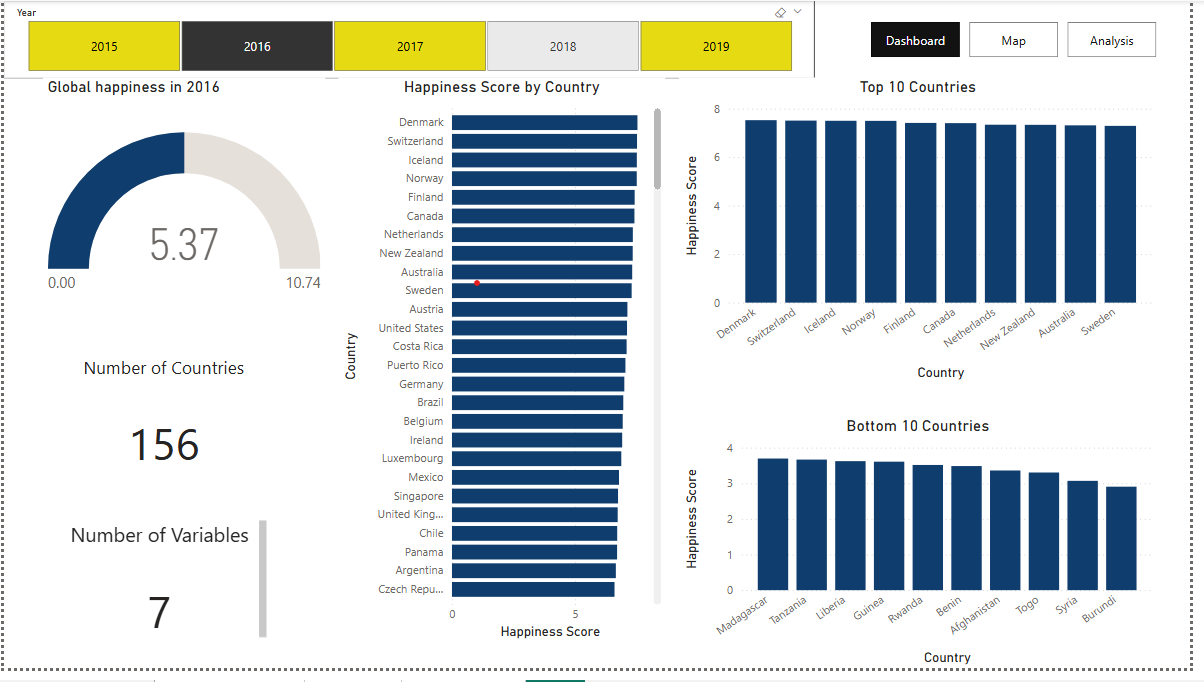

Layout of this report page (visuals, bound fields, positions):
{"tool":"powerbi","page":{"name":"Dashboard","canvas":[1280,720],"ordinal":0},"visuals":[{"type":"slicer","fields":{"Values":["data.Year"]},"box":[0,0,875,83.3],"z":0},{"type":"gauge","fields":{"Y":["Avg(data.Happiness Score)"]},"box":[42.1,82.6,304.4,276.9],"z":1000},{"type":"clusteredColumnChart","title":"Top 10 Countries","fields":{"Category":["data.Country"],"Y":["Avg(data.Happiness Score)"]},"box":[729.5,83.2,515.9,330.7],"z":2000},{"type":"clusteredColumnChart","title":"Bottom 10 Countries","fields":{"Category":["data.Country"],"Y":["Avg(data.Happiness Score)"]},"box":[729.5,447.9,515.9,272.1],"z":3000},{"type":"textbox","box":[56.7,377.3,231.5,144.1],"z":4000},{"type":"textbox","box":[56.7,555.4,231.5,137.6],"z":5000},{"type":"clusteredBarChart","title":"Happiness Score by Country","fields":{"Category":["data.Country"],"Y":["Avg(data.Happiness Score)"]},"box":[361.1,82.6,353,610.4],"z":6000},{"type":"pageNavigator","box":[935.9,22.7,309.3,38.9],"z":7000}]}

Visuals, with their boxes on the page's 1280x720 design canvas (x1, y1, x2, y2). These are canvas units, not pixel positions in the 1204x682 screenshot, which may show the page scaled, cropped or inside an application window:
slicer - data.Year: box(0, 0, 875, 83)
gauge - Avg(data.Happiness Score): box(42, 83, 346, 360)
"Top 10 Countries" clusteredColumnChart: box(730, 83, 1245, 414)
"Bottom 10 Countries" clusteredColumnChart: box(730, 448, 1245, 720)
textbox: box(57, 377, 288, 521)
textbox: box(57, 555, 288, 693)
"Happiness Score by Country" clusteredBarChart: box(361, 83, 714, 693)
pageNavigator: box(936, 23, 1245, 62)
